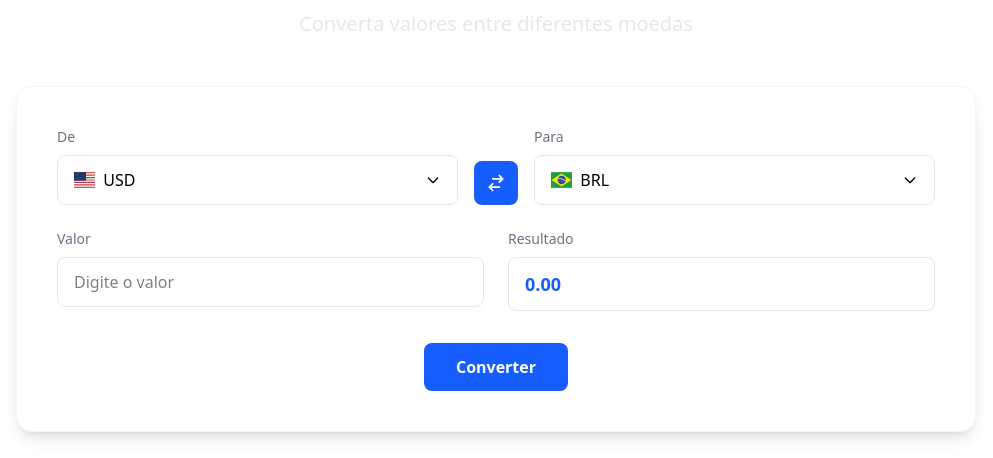
Test: Conversor de Moedas › deve trocar moedas
Expected: the text "USD" is shown, [103, 168, 136, 192]
Expected: the text "BRL" is shown, [580, 168, 609, 192]
Encontra e clica no botão de troca
Click the 2nd button: (496, 183) [474, 161, 518, 205]
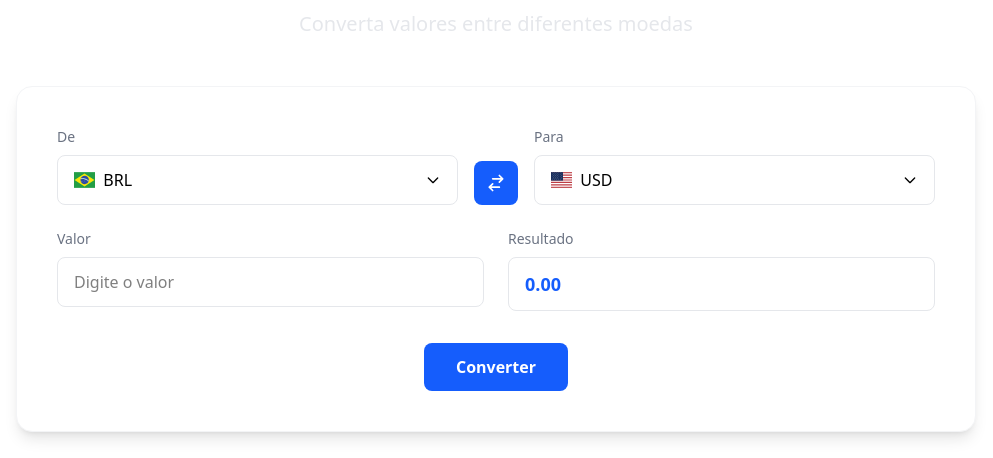
Expected: the text "BRL" is shown, [103, 168, 132, 192]
Expected: the text "USD" is shown, [580, 168, 612, 192]
